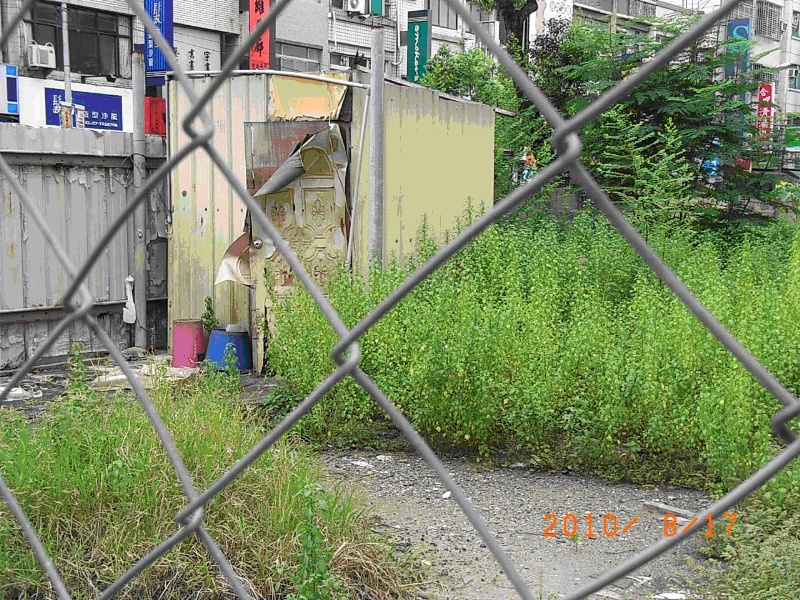bucket: (205, 331, 253, 372), (171, 318, 206, 368)
